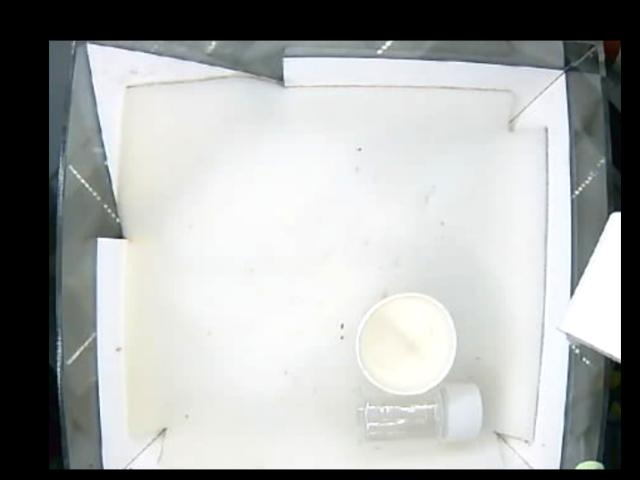Bottle: (360, 382, 485, 444)
Cup: (355, 292, 460, 394)
